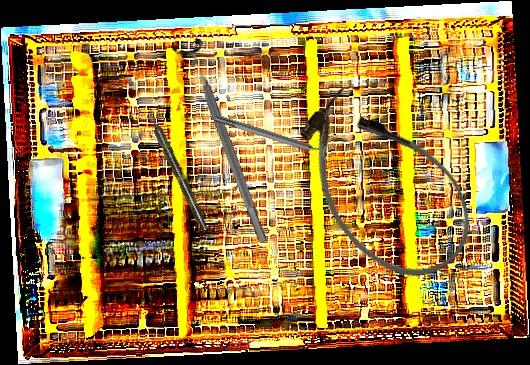Cannula: (272, 69, 495, 304)
Fixation Ring: (170, 35, 280, 249), (212, 107, 336, 165)
Handpiece: (144, 108, 211, 233)
